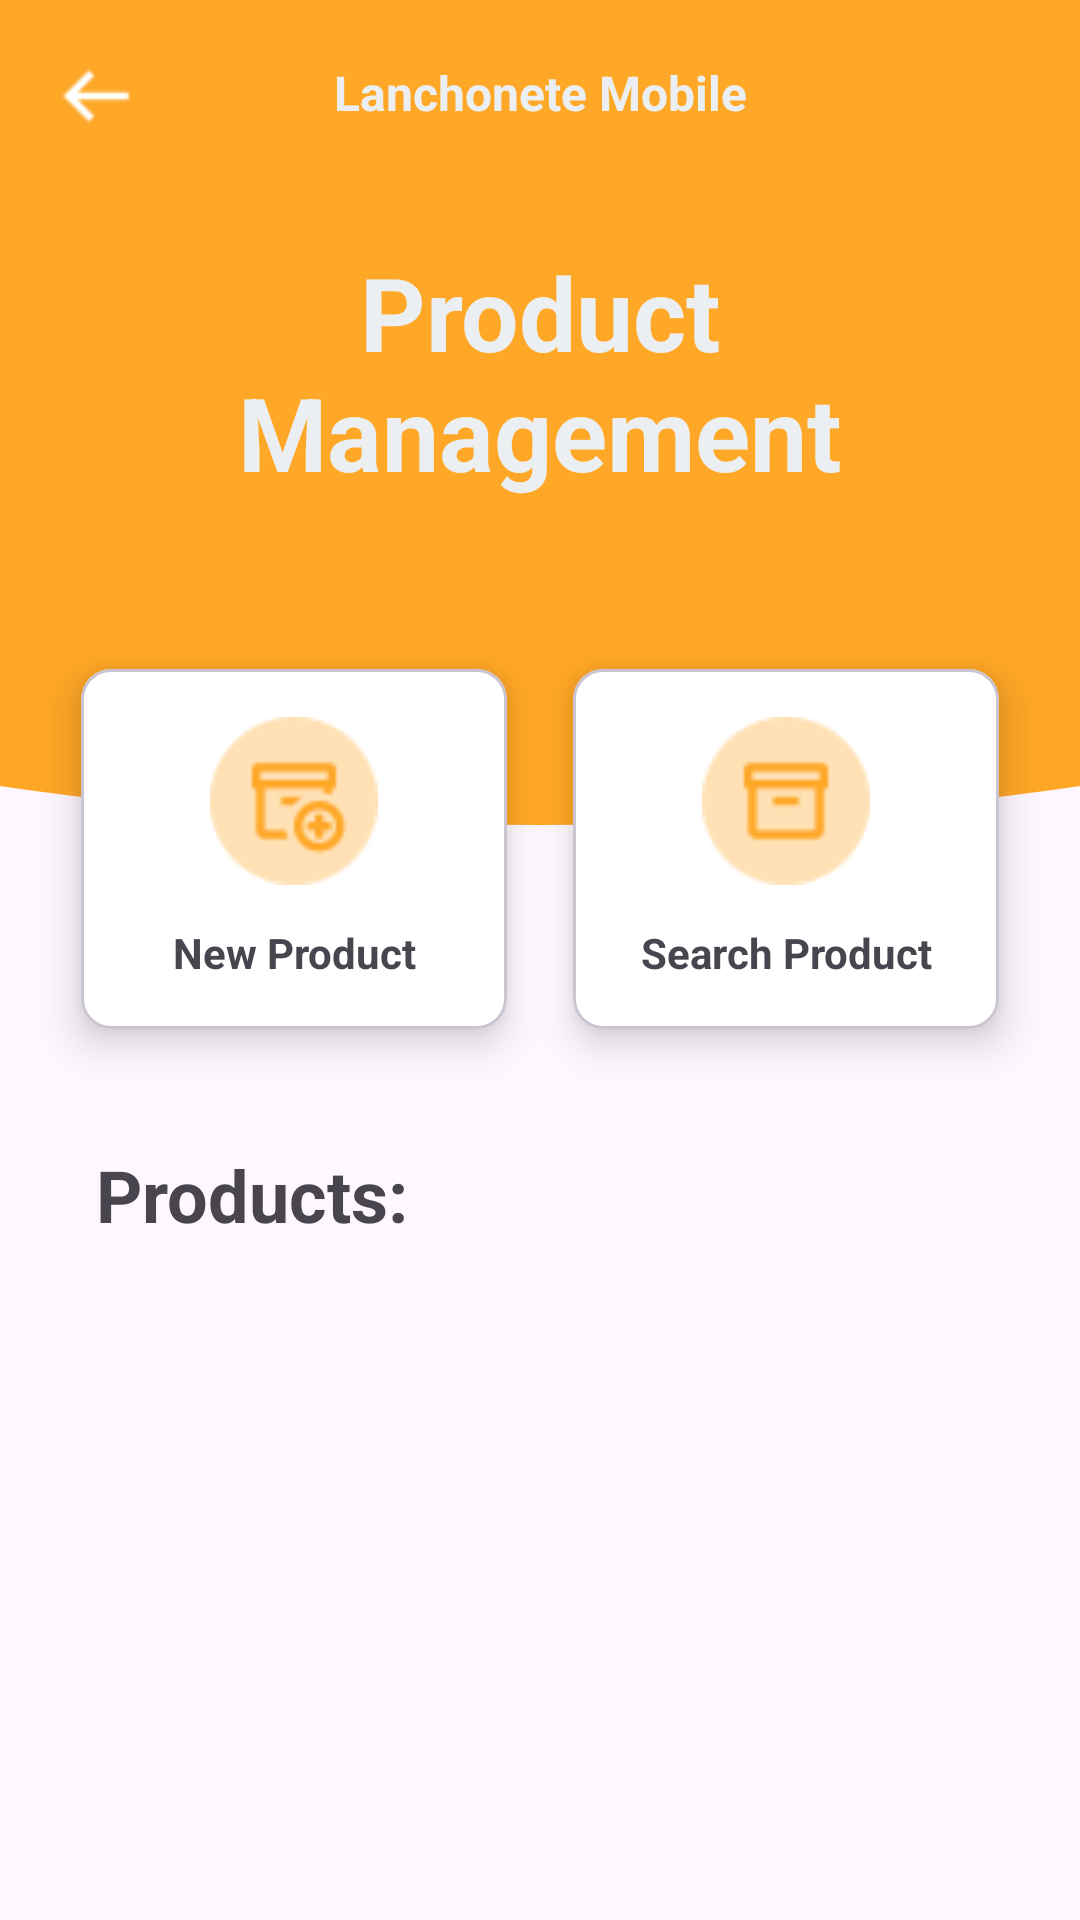

Icon bounding boxes for this 1080*1920 phone screenshot, format (x1,y1,x2,y2):
Back: (62,69,130,123)
